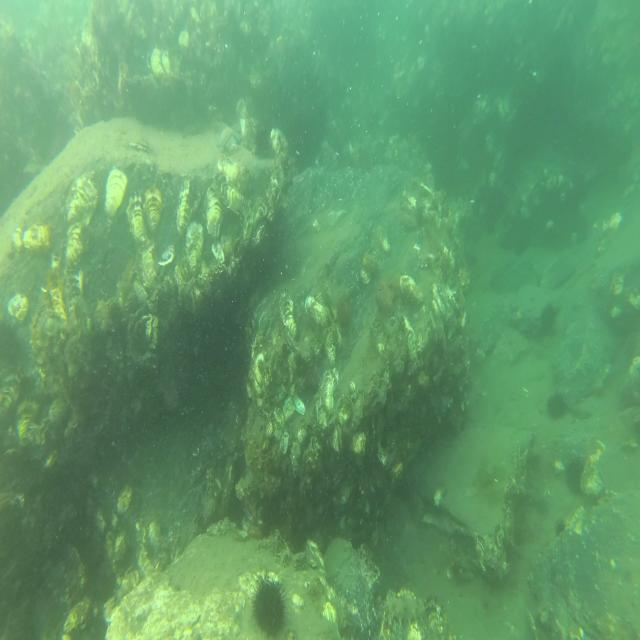echinus: (252, 576, 286, 639), (545, 393, 564, 421), (542, 304, 557, 332), (556, 520, 566, 537)
